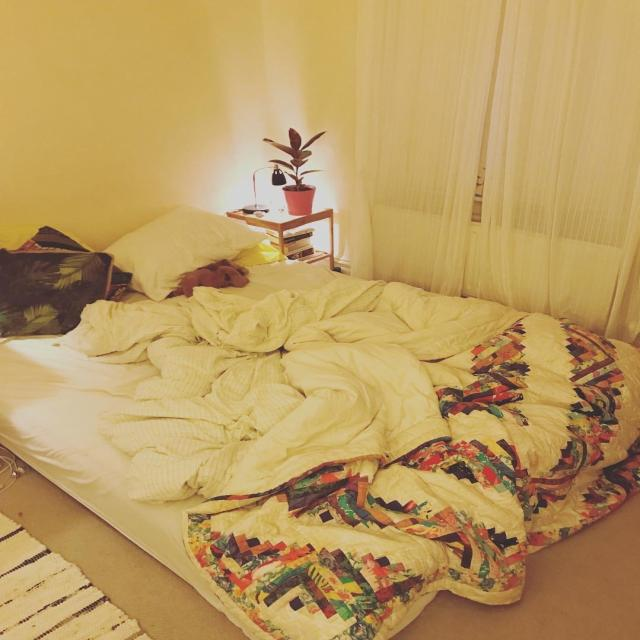bed: (10, 218, 640, 581)
